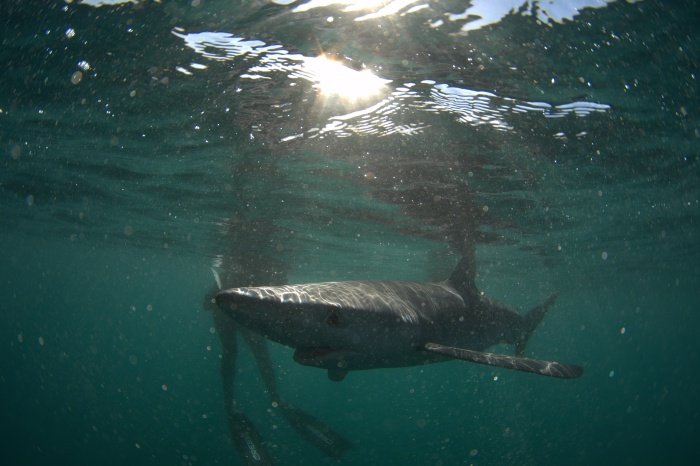Azul: (197, 237, 612, 408)
